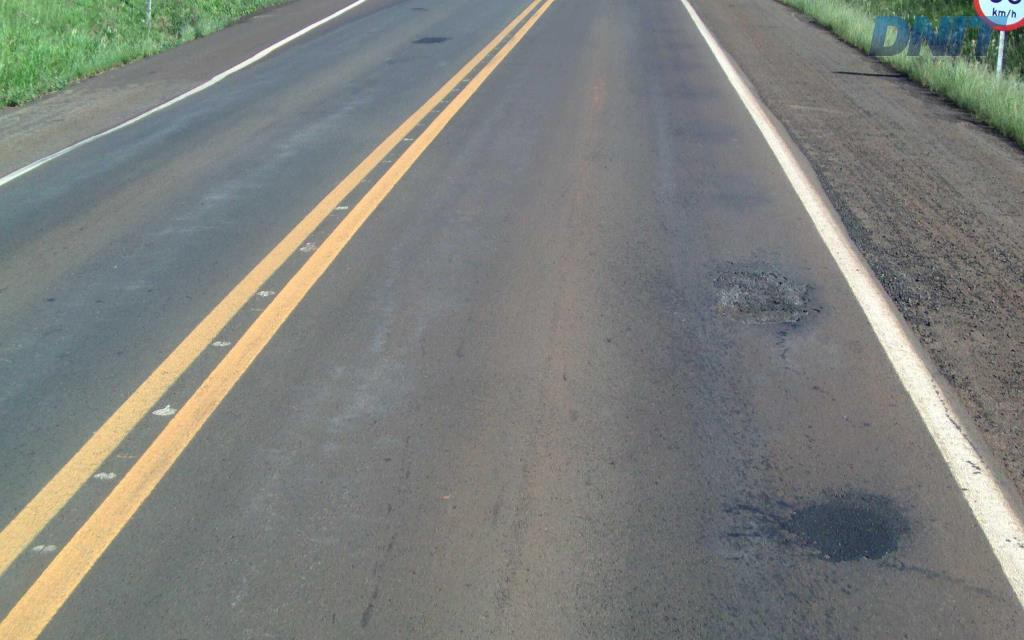crack: (759, 292, 806, 314)
pothole: (708, 264, 824, 325)
